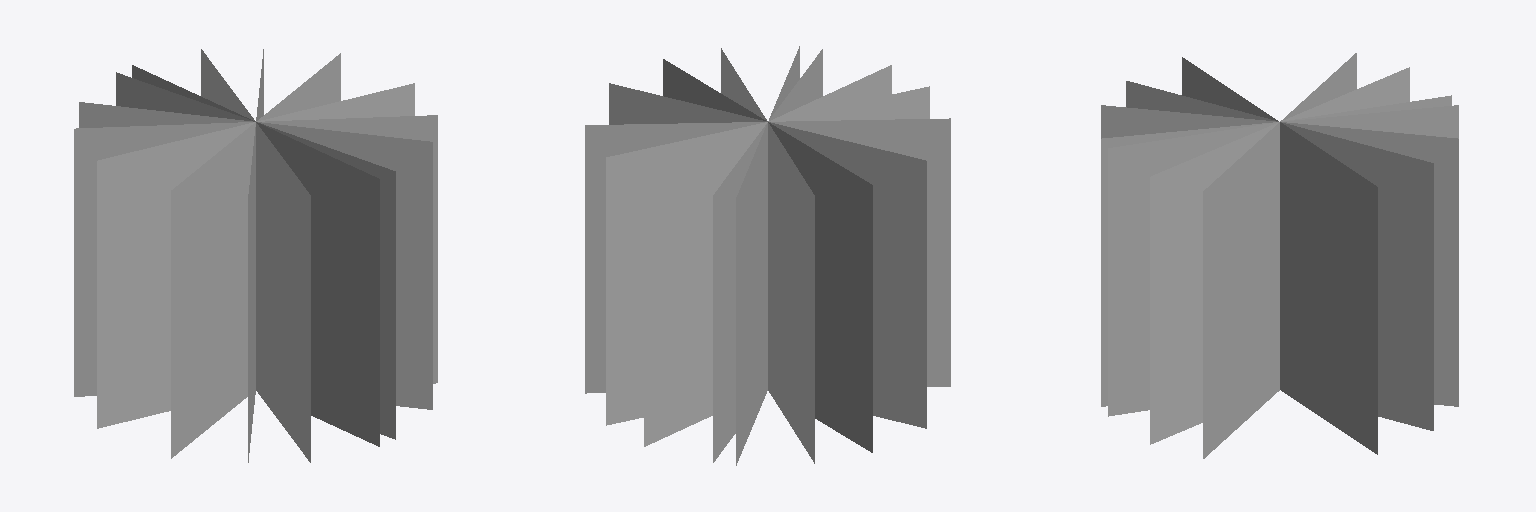
File: tree_3.obj
3 views of the same model, side by side, from view 1: azimuth 30°, elevation 25°; view 2: azimuth 150°, elevation 25°; view 3: azimuth 270°, elevation 25° (orthographic).
Parts seen in each view (by area): view 1: cube; view 2: cube; view 3: cube.
Part boxes in pixels (bbox=[...]): cube: bbox=[74, 49, 437, 462]; cube: bbox=[585, 46, 950, 465]; cube: bbox=[1101, 53, 1458, 458].
Size of the model in its own units: 6.19 by 5 by 6.04.